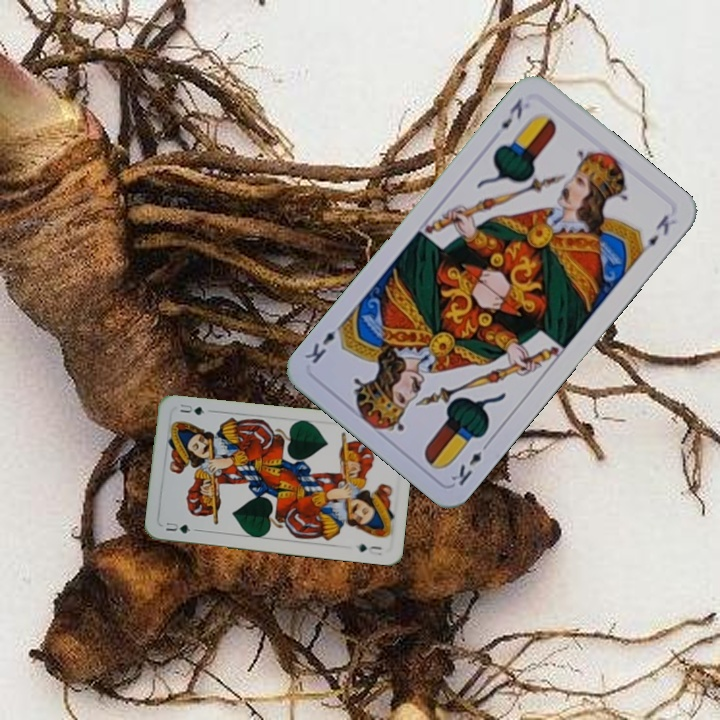EK: (446, 437, 493, 489), (497, 94, 526, 132)
GU: (162, 518, 199, 536)
